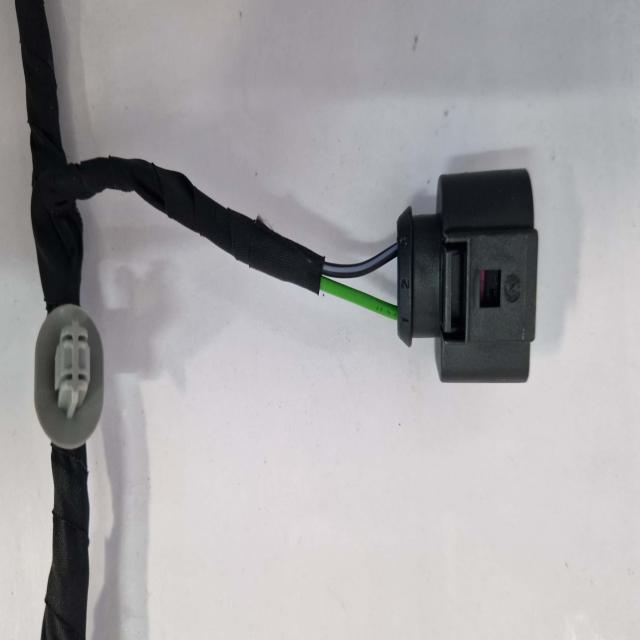Clip: (35, 304, 104, 449)
Connector: (398, 169, 538, 382)
Gape: (320, 242, 398, 320)
MHEV_N11_Cable: (16, 0, 324, 311), (42, 444, 89, 637)
